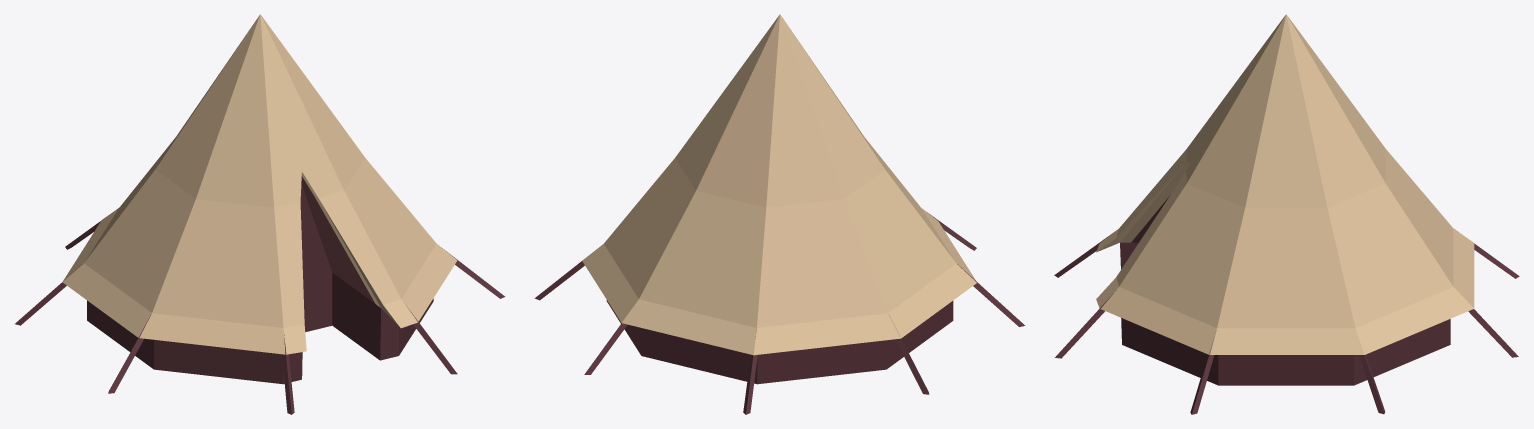
The model's file is tent-bloemfontein-small.fbx.
3 views of the same model, side by side, from view 1: azimuth 30°, elevation 25°; view 2: azimuth 150°, elevation 25°; view 3: azimuth 270°, elevation 25° (orthographic).
Visible parts, largest first — view 1: tent-bloemfontein-small; view 2: tent-bloemfontein-small; view 3: tent-bloemfontein-small.
Part boxes in pixels (x1,y1,x2,y2): tent-bloemfontein-small: [15, 14, 505, 414]; tent-bloemfontein-small: [534, 14, 1025, 414]; tent-bloemfontein-small: [1054, 14, 1519, 414].
Size of the model in its own units: 4.2 by 3.01 by 4.19.
